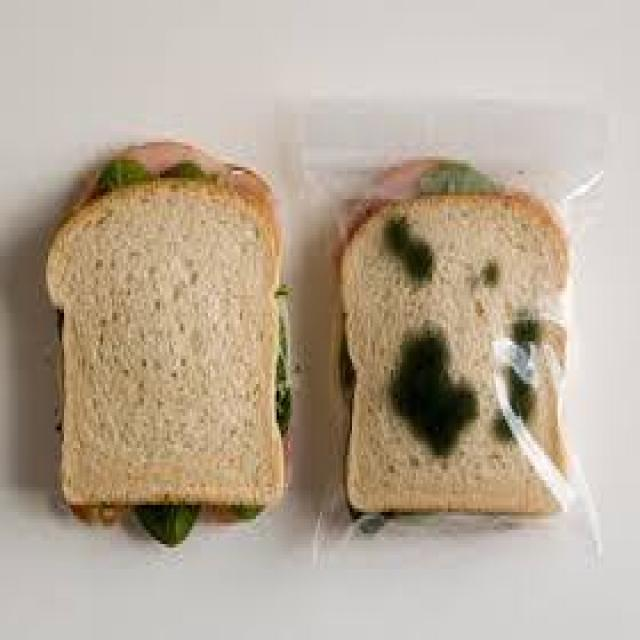organic waste: (336, 181, 569, 519), (44, 178, 281, 508), (75, 139, 228, 181), (348, 160, 437, 220), (270, 284, 290, 438), (135, 501, 201, 544), (92, 156, 153, 192), (215, 160, 267, 188), (160, 156, 203, 182), (212, 505, 260, 523), (73, 505, 121, 523), (357, 512, 384, 533), (414, 196, 494, 199)
